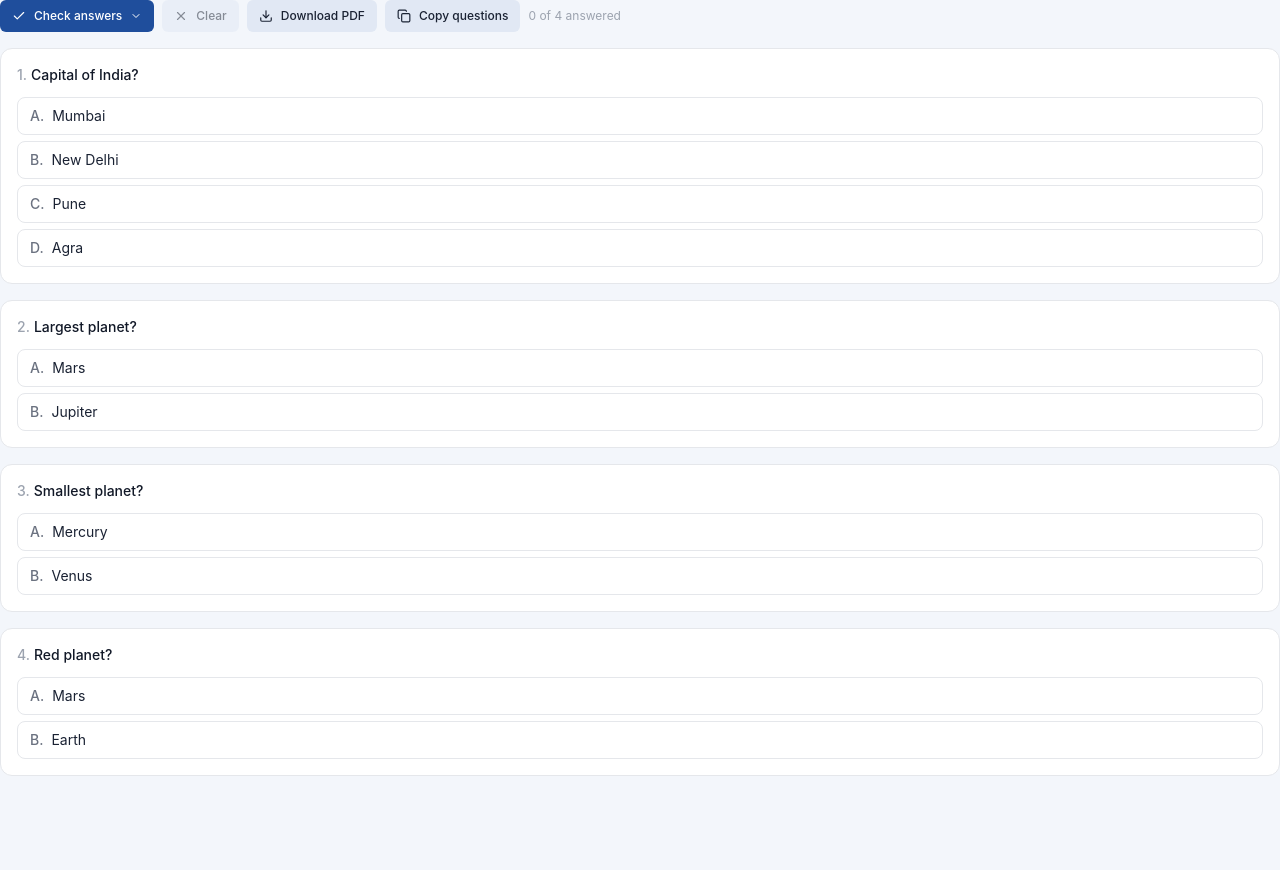
Test: Check answers › 'Check all' shows every answer and counts unattempted ones as not attempted
The image size is (1280, 870).
Click the radio button labelled "B. New Delhi" at coordinates (85, 160), box [17,141,1263,179]
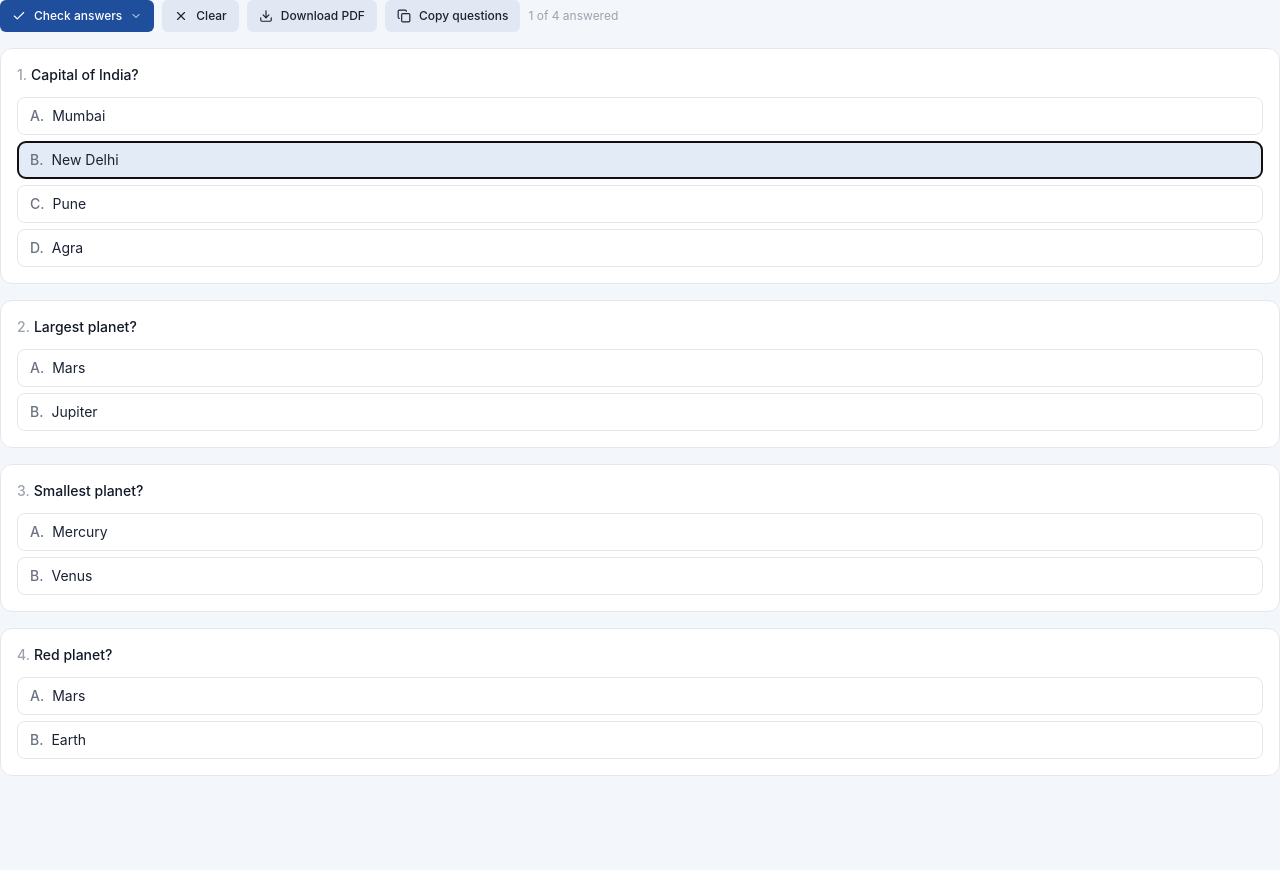
Click the button "Check answers" at coordinates (77, 16), box [0,0,154,32]
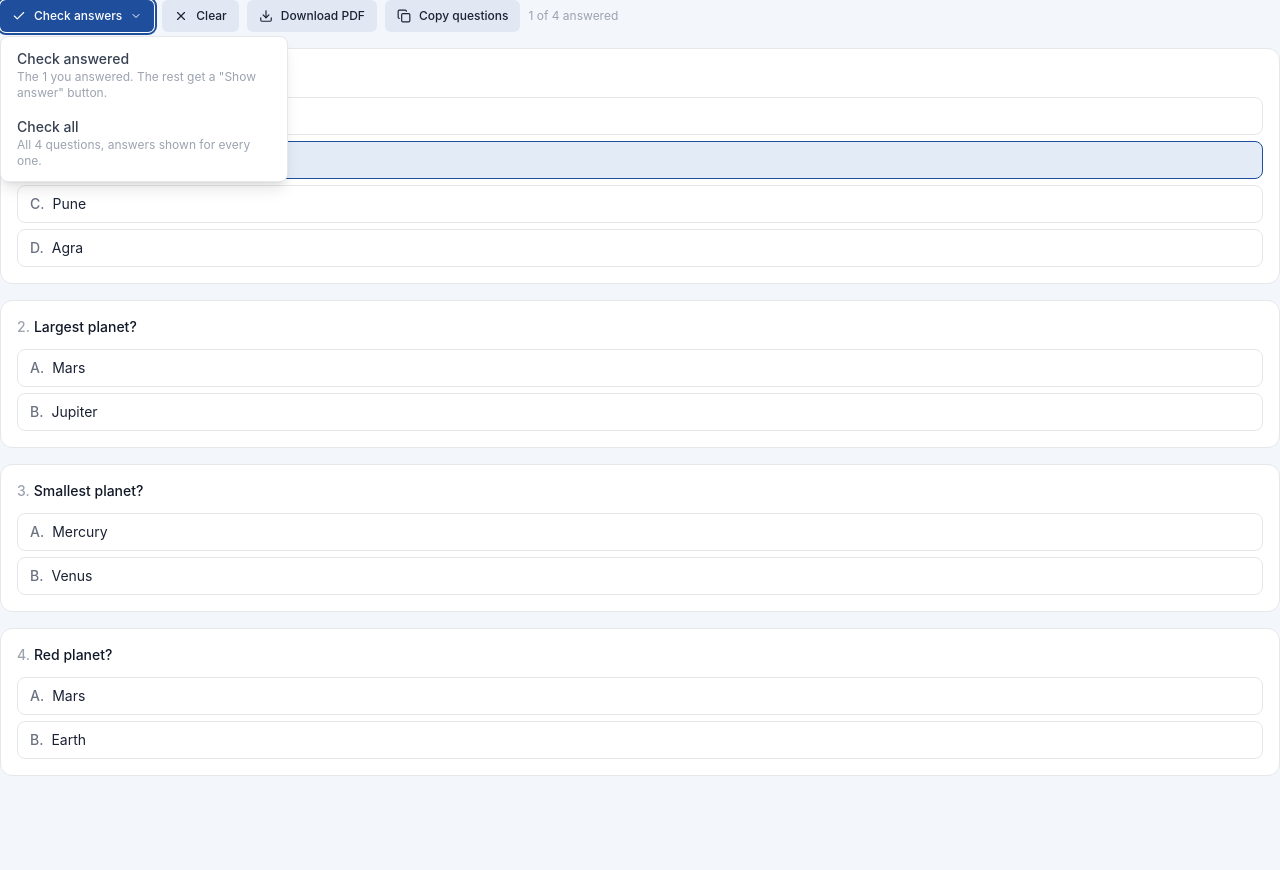
Click the menu item "Check all All 4 questions, answers shown for every one." at coordinates (144, 143), box [1,109,287,177]
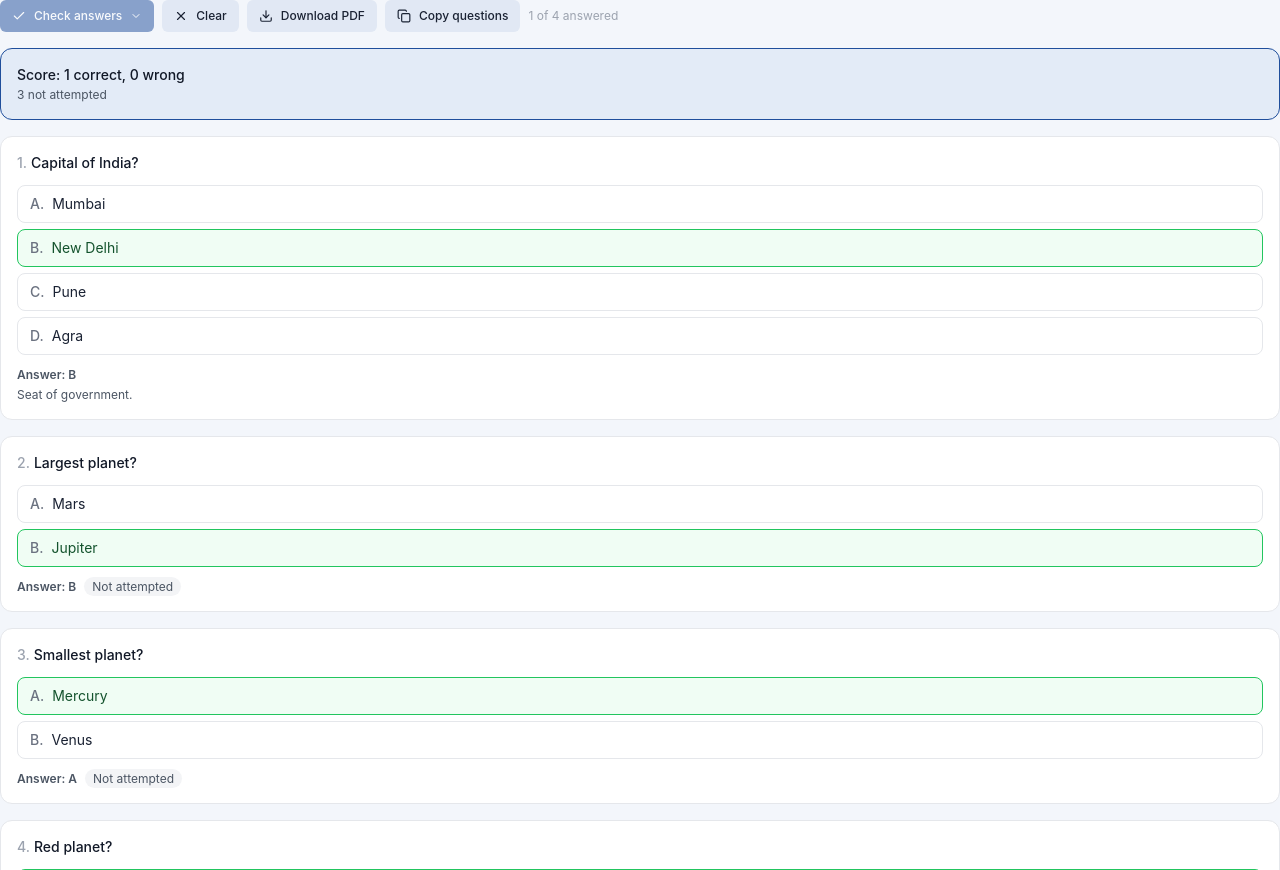
Expected: the text "Score: 1 correct, 0 wrong" is shown, [17,66,185,83]
Expected: the text "3 not attempted" is shown, [17,87,107,102]
Expected: the menu item "Show answer" is gone
